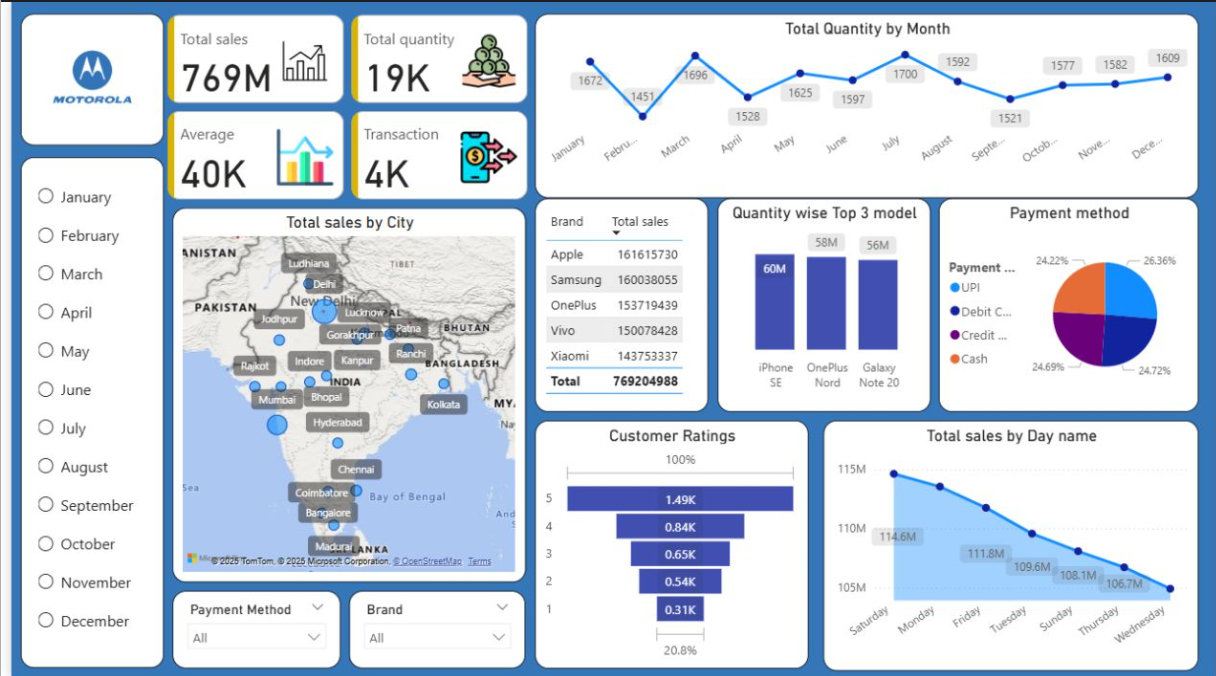

The page's visual inventory and layout, read from the dashboard file:
{"tool":"powerbi","page":{"name":"Page 1","canvas":[1280,720],"ordinal":0},"visuals":[{"type":"shape","box":[178.7,631.4,199.9,78.7],"z":0},{"type":"shape","box":[389.2,631.4,209,78.7],"z":1000},{"type":"shape","box":[608.7,449.7,301.3,260.4],"z":2000},{"type":"shape","box":[608.6,10,668.6,191.4],"z":3000},{"type":"shape","box":[608.7,209,177.2,225.6],"z":4000},{"type":"tableEx","fields":{"Values":["Sheet1.Brand","Sheet1.Total sales"]},"box":[608.7,219.6,177.2,205.9],"z":5000},{"type":"shape","box":[1032.7,209,245.3,225.6],"z":6000},{"type":"shape","box":[178.7,201.4,419.4,419.4],"z":7000},{"type":"shape","box":[10.6,10.6,157.5,136.3],"z":8000},{"type":"image","box":[15.1,16.7,140.8,122.7],"z":9000},{"type":"shape","box":[10.6,157.5,157.5,552.7],"z":10000},{"type":"advancedSlicerVisual","fields":{"Values":["Sheet1.Date.Variation.Date Hierarchy.Month"]},"box":[15.1,163.5,140.8,539.1],"z":11000},{"type":"cardVisual","fields":{"Data":["Sheet1.Total sales","Sheet1.Average","Sheet1.Total quantity","Sheet1.Transaction"]},"box":[178.7,10.6,419.4,190.8],"z":12000},{"type":"map","fields":{"Category":["Sheet1.City"],"Size":["Sheet1.Total sales"]},"box":[189.3,209,398.2,399.8],"z":13000},{"type":"lineChart","fields":{"Category":["Sheet1.Date.Variation.Date Hierarchy.Month"],"Y":["Sheet1.Total quantity"]},"box":[620,10,647.1,191.4],"z":14000},{"type":"actionButton","box":[0,0,99.9,39.4],"z":15000},{"type":"shape","box":[796.5,209,225.6,225.6],"z":16000},{"type":"clusteredColumnChart","title":"Quantity wise Top 3 Model","fields":{"Category":["Sheet1.Mobile Model"],"Y":["Sheet1.Total sales"]},"box":[807.1,213.5,204.4,216.5],"z":17000},{"type":"pieChart","title":"Payment Method","fields":{"Category":["Sheet1.Payment Method"],"Y":["Sheet1.Transaction"]},"box":[1044.8,219.6,221.1,210.5],"z":18000},{"type":"funnel","title":"Customer Ratings","fields":{"Category":["Sheet1.Customer Ratings"],"Y":["CountNonNull(Sheet1.Customer Ratings)"]},"box":[619.3,460.3,280.1,242.3],"z":19000},{"type":"shape","box":[920.6,449.7,357.4,260.4],"z":20000},{"type":"areaChart","title":"Total sales by Day Name","fields":{"Category":["Sheet1.Day Name.1"],"Y":["Sheet1.Total sales"]},"box":[920.6,460.3,345.2,242.3],"z":21000},{"type":"slicer","fields":{"Values":["Sheet1.Payment Method"]},"box":[178.7,637.5,199.9,66.6],"z":22000},{"type":"slicer","fields":{"Values":["Sheet1.Brand"]},"box":[393.7,631.4,199.9,75.7],"z":22001}]}

Visuals, with their boxes in screenshot pixels (x1, y1, x2, y2), scaled from the page's 1280x720 canvas onto the 1216x676 screenshot:
shape: {"left": 170, "top": 593, "right": 360, "bottom": 667}
shape: {"left": 370, "top": 593, "right": 568, "bottom": 667}
shape: {"left": 578, "top": 422, "right": 864, "bottom": 667}
shape: {"left": 578, "top": 9, "right": 1213, "bottom": 189}
shape: {"left": 578, "top": 196, "right": 747, "bottom": 408}
tableEx - Sheet1.Brand x Sheet1.Total sales: {"left": 578, "top": 206, "right": 747, "bottom": 399}
shape: {"left": 981, "top": 196, "right": 1214, "bottom": 408}
shape: {"left": 170, "top": 189, "right": 568, "bottom": 583}
shape: {"left": 10, "top": 10, "right": 160, "bottom": 138}
image: {"left": 14, "top": 16, "right": 148, "bottom": 131}
shape: {"left": 10, "top": 148, "right": 160, "bottom": 667}
advancedSlicerVisual - Sheet1.Date.Variation.Date Hierarchy.Month: {"left": 14, "top": 154, "right": 148, "bottom": 660}
cardVisual - Sheet1.Total sales x Sheet1.Average: {"left": 170, "top": 10, "right": 568, "bottom": 189}
map - Sheet1.City x Sheet1.Total sales: {"left": 180, "top": 196, "right": 558, "bottom": 572}
lineChart - Sheet1.Date.Variation.Date Hierarchy.Month x Sheet1.Total quantity: {"left": 589, "top": 9, "right": 1204, "bottom": 189}
actionButton: {"left": 0, "top": 0, "right": 95, "bottom": 37}
shape: {"left": 757, "top": 196, "right": 971, "bottom": 408}
"Quantity wise Top 3 Model" clusteredColumnChart: {"left": 767, "top": 200, "right": 961, "bottom": 404}
"Payment Method" pieChart: {"left": 993, "top": 206, "right": 1203, "bottom": 404}
"Customer Ratings" funnel: {"left": 588, "top": 432, "right": 854, "bottom": 660}
shape: {"left": 875, "top": 422, "right": 1214, "bottom": 667}
"Total sales by Day Name" areaChart: {"left": 875, "top": 432, "right": 1203, "bottom": 660}
slicer - Sheet1.Payment Method: {"left": 170, "top": 599, "right": 360, "bottom": 661}
slicer - Sheet1.Brand: {"left": 374, "top": 593, "right": 564, "bottom": 664}
